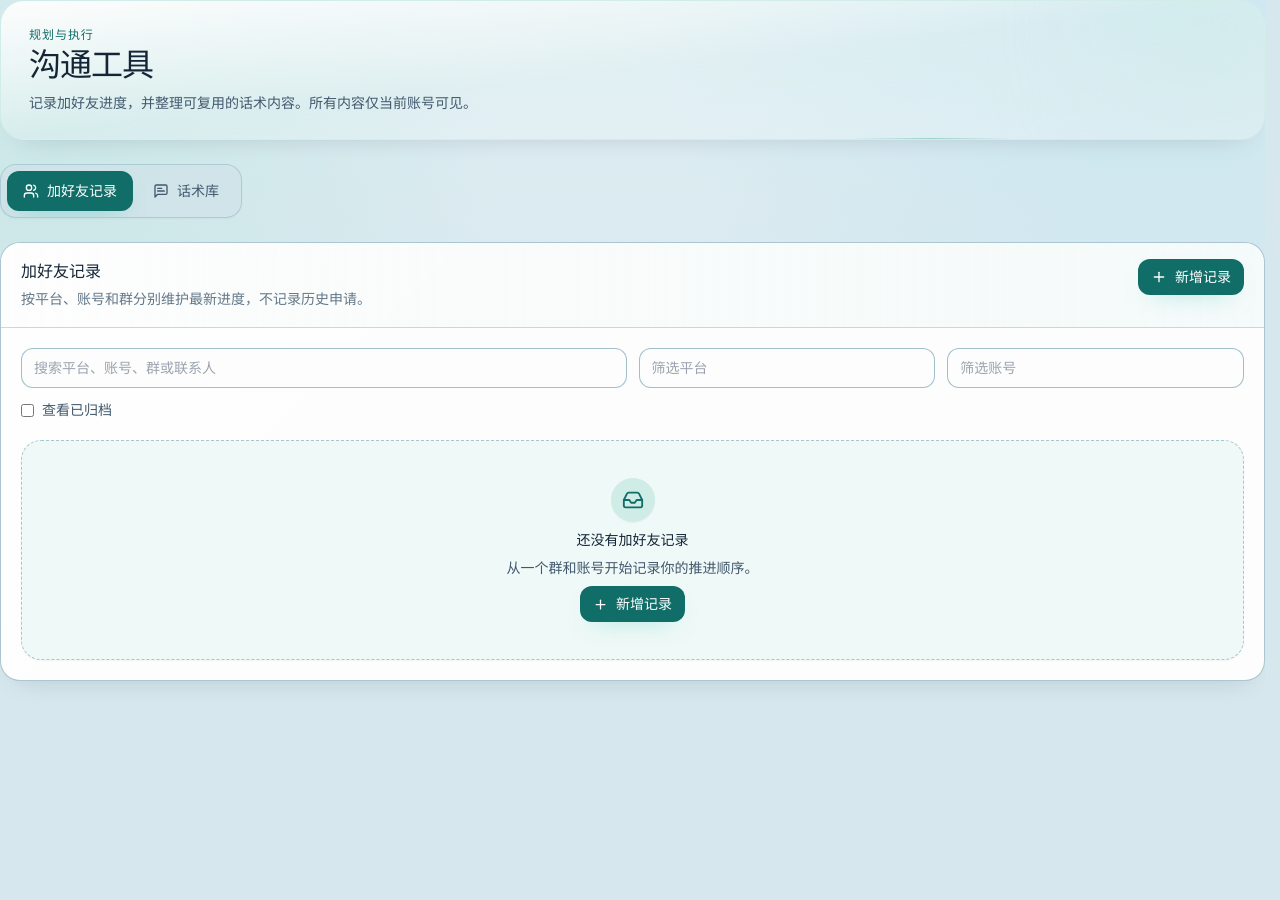
Scenario: CommunicationPage › opens friend records by default and keeps the scripts tab in the URL
The width and height of the screenshot is (1280, 900).
Expected: the heading "还没有加好友记录" is shown, top-left (576, 530), bottom-right (688, 550)
Press the mouse on the tab "话术库": (186, 191) top-left (137, 171), bottom-right (235, 211)
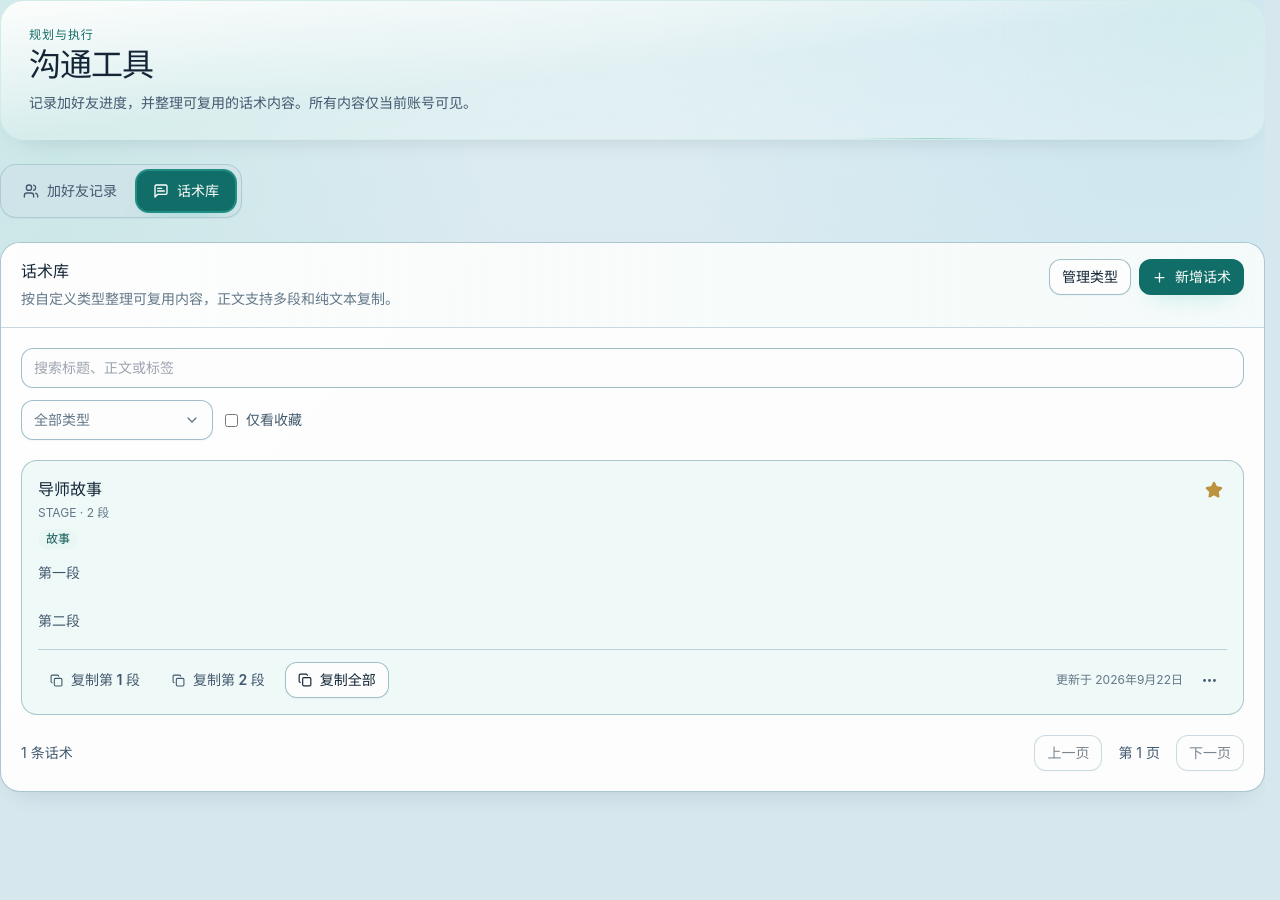
Result: the heading "导师故事" is shown at top-left (38, 477), bottom-right (109, 501)
